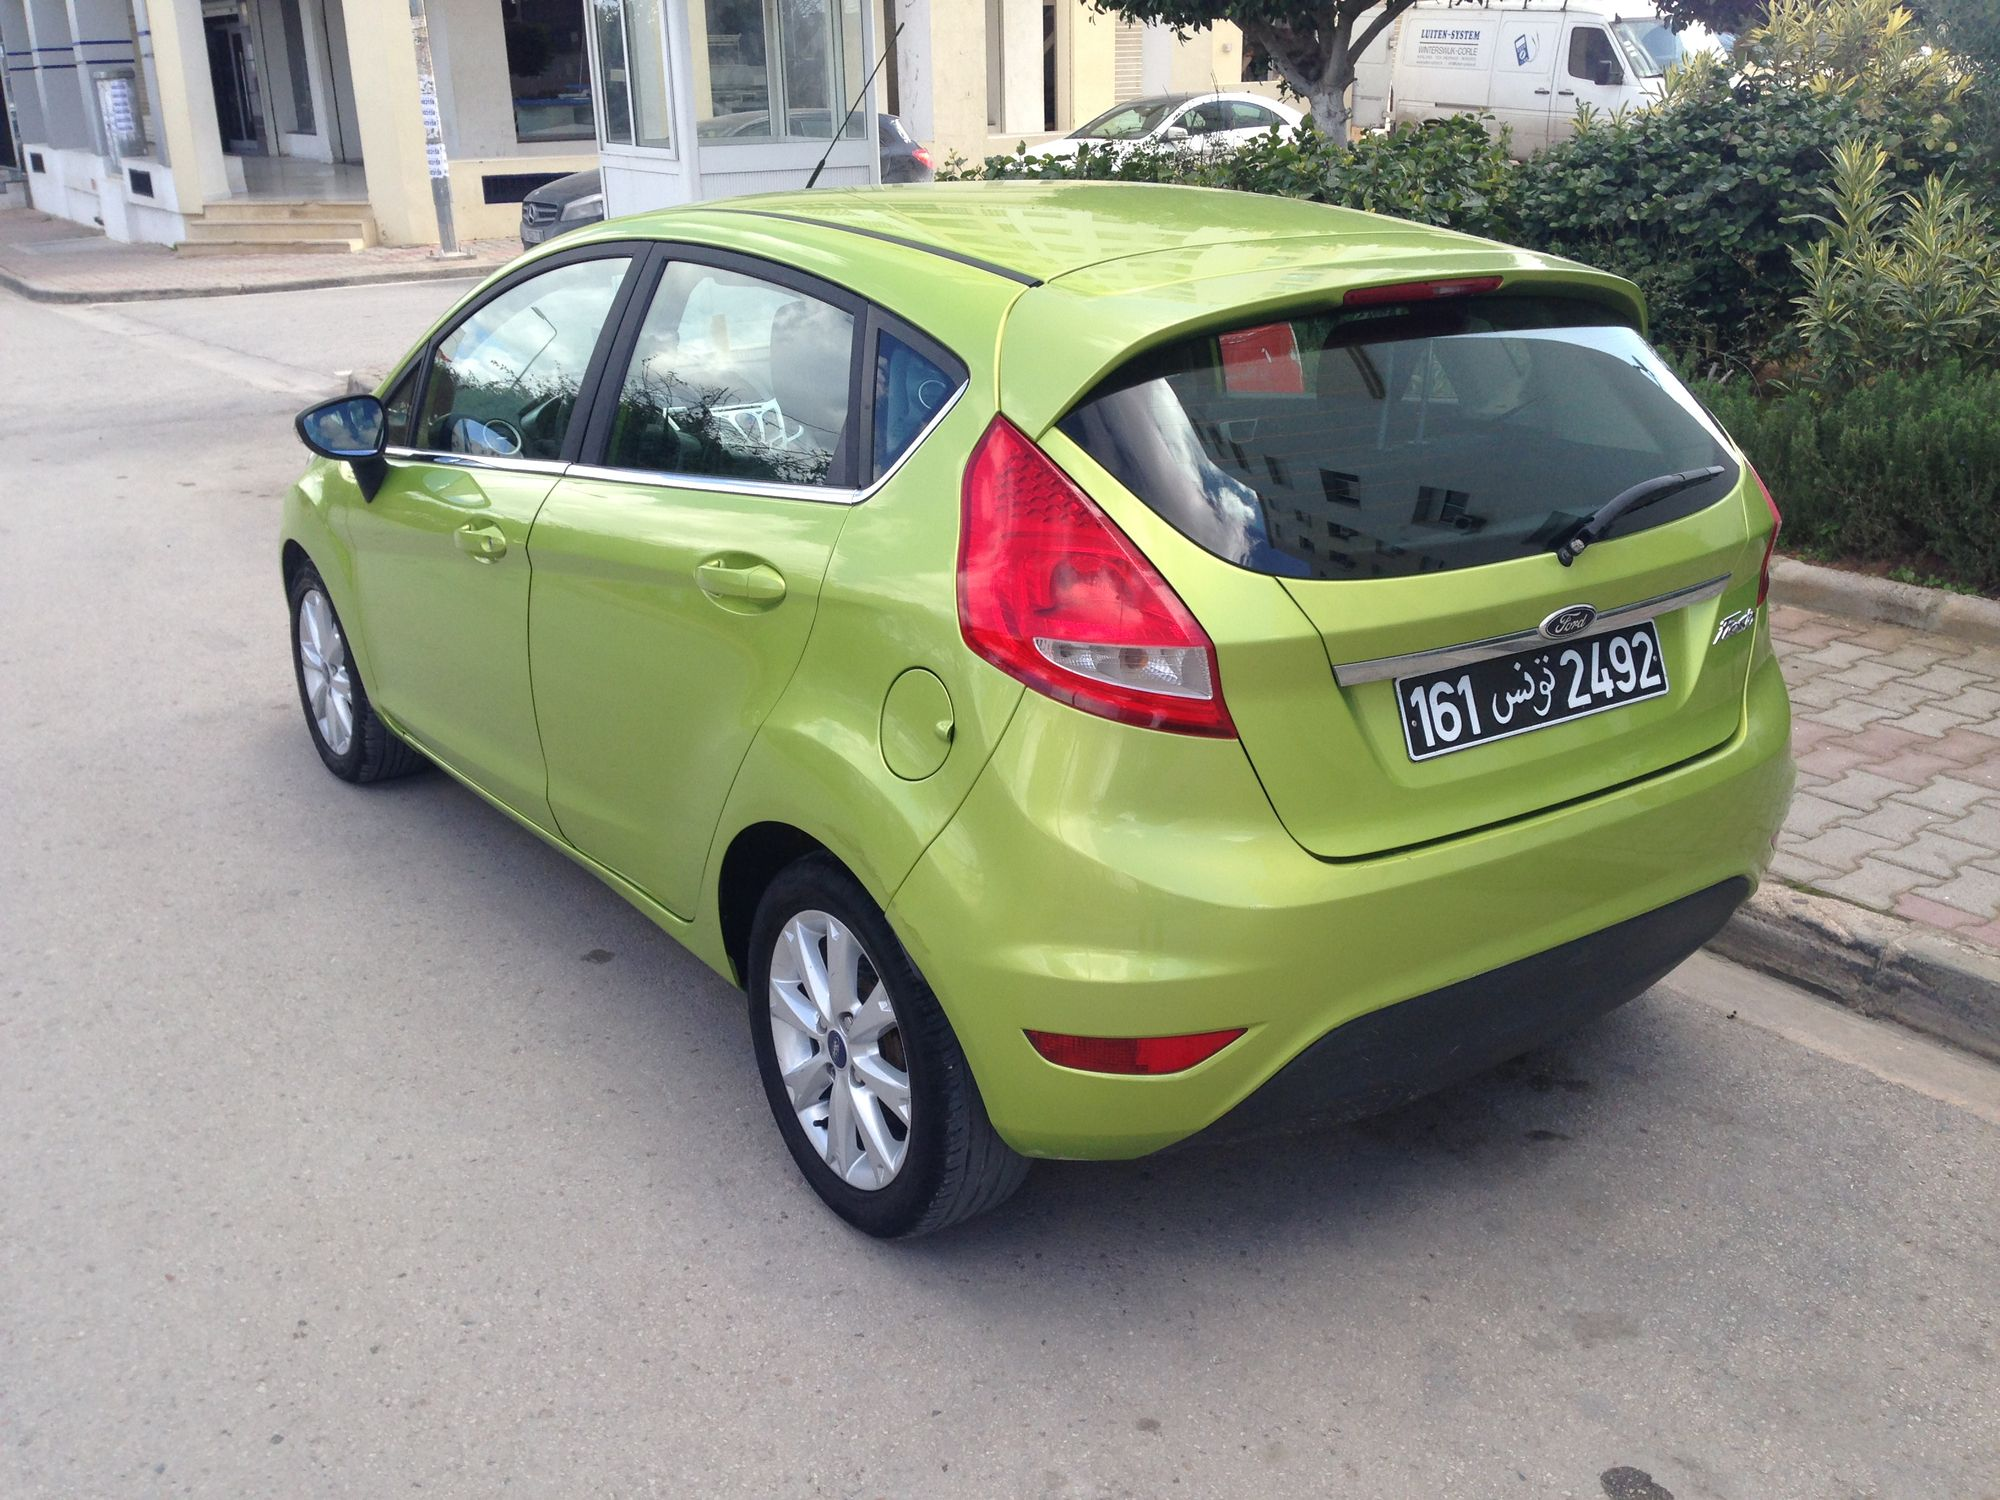LP: (1391, 616, 1673, 759)
